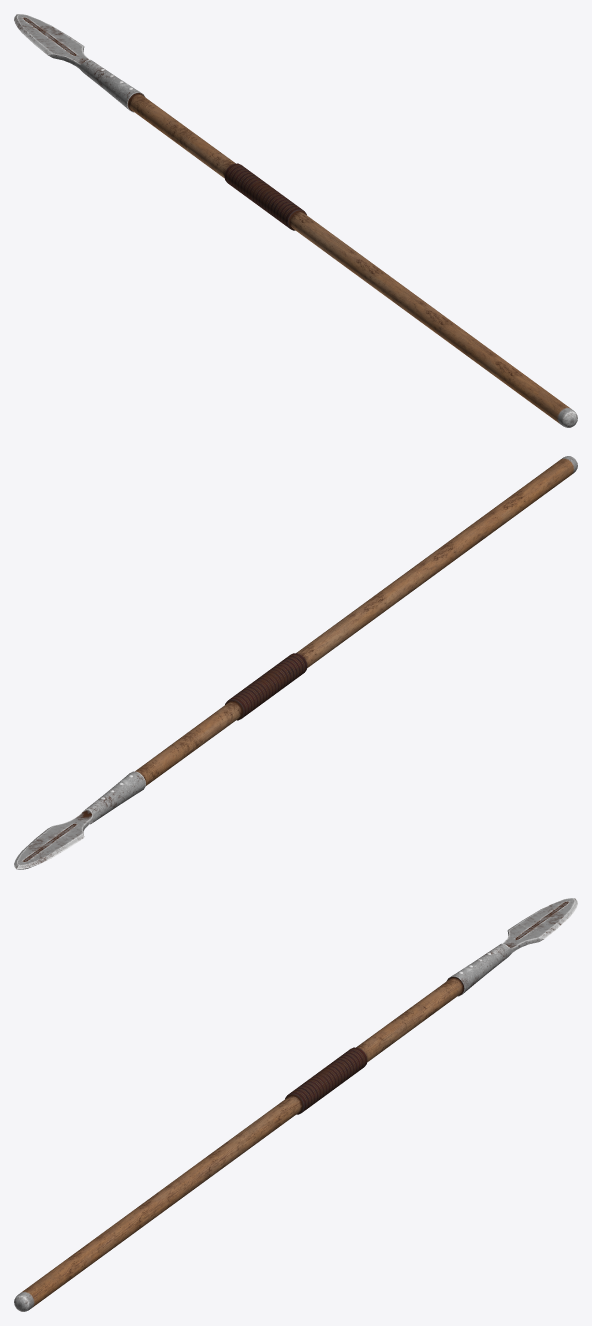
Rendered from spear.glb.
3 renders of one model, top to bottom at view 1: azimuth 30°, elevation 25°; view 2: azimuth 150°, elevation 25°; view 3: azimuth 330°, elevation 25°, orthographic.
Visible parts, largest first — view 1: wooden_low, blade_low, hand_low; view 2: wooden_low, blade_low, hand_low; view 3: wooden_low, blade_low, hand_low.
Part boxes in pixels (box(x1,y1,x2,y2)): wooden_low: box(128, 94, 577, 427); blade_low: box(14, 14, 145, 112); hand_low: box(224, 163, 306, 230); wooden_low: box(135, 456, 577, 785); blade_low: box(14, 771, 145, 869); hand_low: box(225, 653, 307, 720); wooden_low: box(14, 978, 463, 1311); blade_low: box(446, 898, 577, 996); hand_low: box(285, 1047, 367, 1114).
Bounding box in the file's own units: 0.1803 × 0.097 × 4.7.
1 material, 1 textured.
